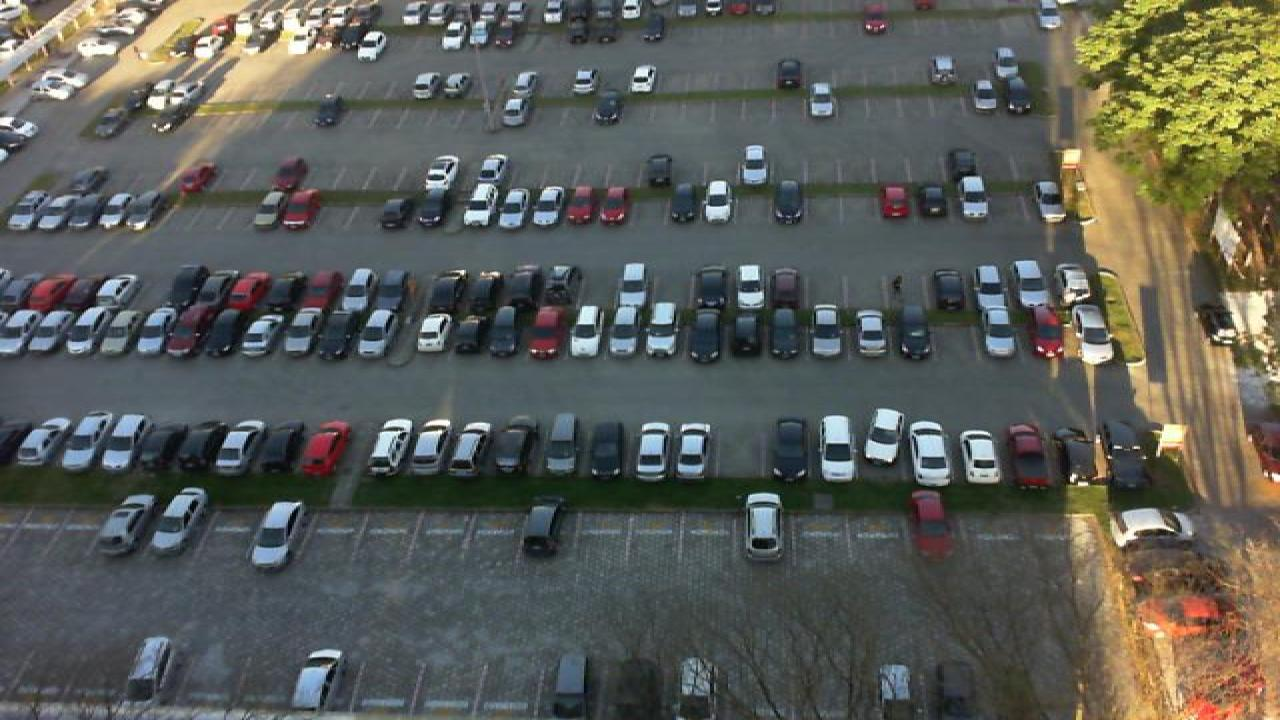Car: (290, 647, 346, 720), (246, 497, 300, 569), (154, 486, 210, 554), (98, 492, 158, 554), (816, 410, 868, 481), (1102, 423, 1154, 493), (906, 488, 956, 560), (738, 490, 786, 564), (208, 416, 266, 477), (1004, 420, 1054, 490), (126, 636, 176, 702), (364, 416, 418, 477), (1110, 505, 1190, 546), (672, 655, 722, 720), (518, 494, 568, 557), (298, 419, 352, 477), (548, 650, 592, 720), (770, 413, 812, 485), (906, 426, 954, 488), (404, 417, 454, 476), (632, 420, 678, 483), (14, 416, 70, 467), (106, 411, 152, 472), (956, 429, 1004, 487), (492, 416, 538, 476), (444, 420, 492, 477), (62, 411, 108, 470), (1074, 302, 1116, 366), (540, 411, 580, 478), (1056, 424, 1098, 486), (674, 422, 716, 482), (866, 406, 908, 466), (94, 306, 140, 359), (54, 307, 102, 357), (978, 304, 1020, 361), (164, 302, 206, 358), (484, 304, 526, 360), (686, 306, 726, 364), (18, 308, 66, 356), (356, 308, 400, 360), (528, 304, 568, 361), (730, 305, 770, 361), (132, 305, 174, 358), (606, 303, 644, 361), (240, 308, 284, 358), (1056, 259, 1100, 309), (318, 307, 360, 359), (568, 303, 606, 360), (226, 269, 274, 314), (280, 307, 322, 358), (642, 304, 680, 360), (808, 305, 846, 361), (304, 266, 350, 312), (898, 308, 936, 362), (1030, 304, 1066, 361), (772, 305, 808, 361), (20, 272, 68, 313), (280, 186, 322, 232), (142, 79, 194, 116), (690, 264, 730, 312), (854, 308, 890, 361), (60, 271, 104, 314), (1012, 260, 1050, 309), (166, 264, 208, 308), (422, 268, 464, 312), (344, 266, 384, 312), (98, 271, 142, 312), (6, 189, 46, 234), (770, 178, 806, 227), (414, 312, 452, 358), (616, 261, 650, 312), (734, 262, 770, 310), (460, 180, 496, 228), (956, 174, 992, 221), (768, 264, 804, 310), (40, 190, 80, 231), (88, 186, 126, 229), (124, 188, 162, 231), (174, 158, 218, 195), (1032, 180, 1068, 225), (0, 305, 32, 355), (410, 189, 450, 229), (700, 179, 734, 226), (384, 266, 420, 310), (972, 266, 1008, 310), (422, 154, 462, 192), (530, 184, 564, 228), (564, 184, 598, 228), (738, 142, 770, 188), (598, 184, 632, 226), (274, 154, 310, 192), (878, 182, 912, 222), (498, 187, 530, 228), (352, 30, 388, 63), (806, 81, 838, 118), (0, 116, 42, 143), (478, 153, 510, 187), (500, 94, 532, 128), (972, 77, 1002, 112), (1032, 0, 1064, 32), (628, 63, 658, 97), (1004, 78, 1032, 114), (928, 55, 958, 88), (860, 3, 890, 36), (990, 45, 1018, 80), (442, 70, 472, 101), (410, 70, 440, 100), (508, 67, 536, 99), (0, 272, 22, 310)
